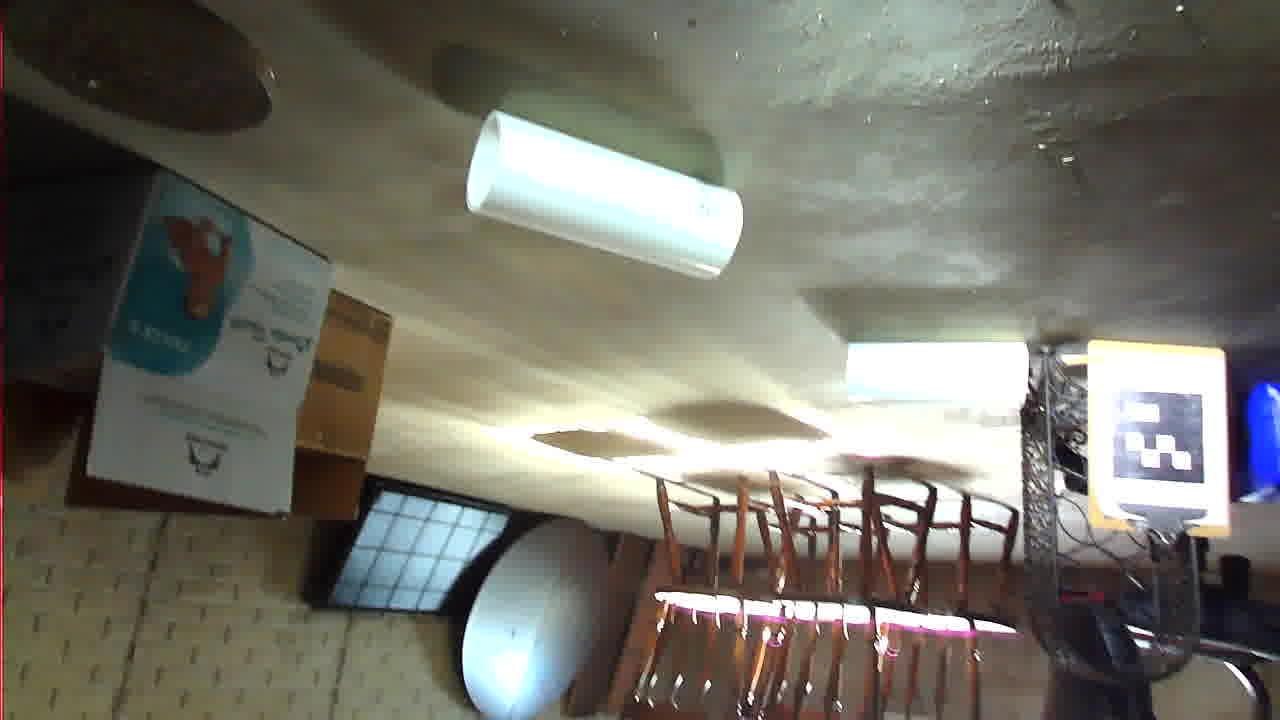coral: (537, 439, 814, 609), (251, 311, 434, 378)
